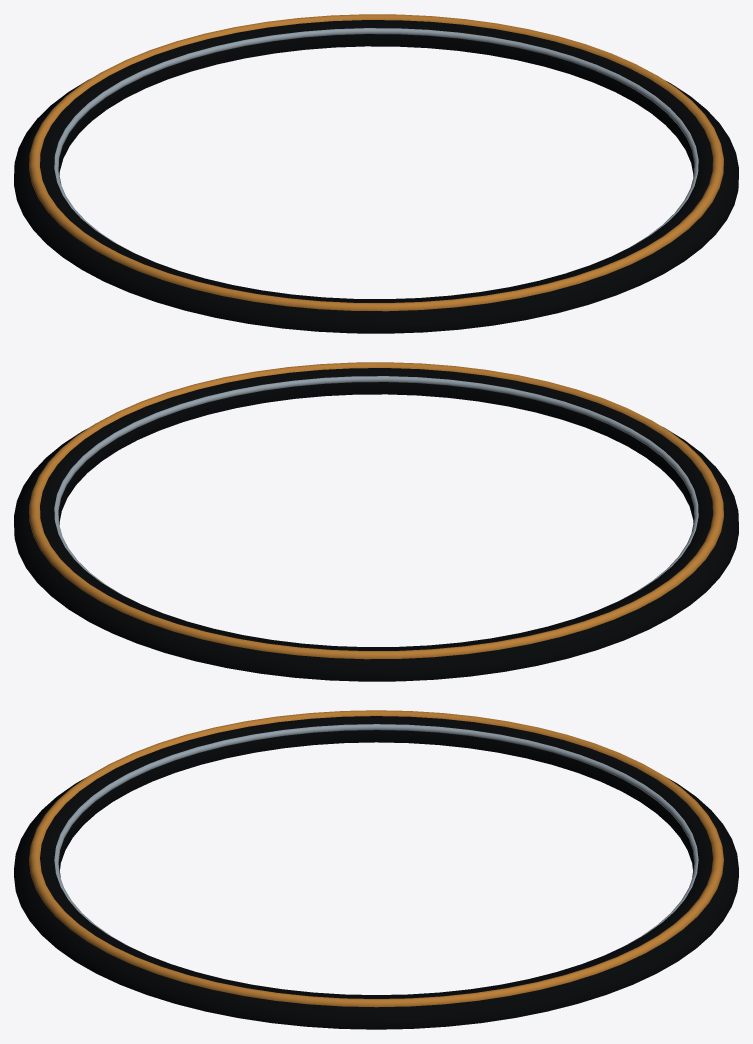
The model's file is insert-bezel.dae.
3 renders of one model, top to bottom at view 1: azimuth 30°, elevation 25°; view 2: azimuth 150°, elevation 25°; view 3: azimuth 270°, elevation 25°, orthographic.
Visible parts, largest first — view 1: Recessed socket, Hairline bezel, Inner lens retainer; view 2: Recessed socket, Hairline bezel, Inner lens retainer; view 3: Recessed socket, Hairline bezel, Inner lens retainer.
Boxes of the visible parts, x1,y1,x2,y2 form: Recessed socket: (14, 20, 738, 333); Hairline bezel: (29, 14, 723, 311); Inner lens retainer: (54, 28, 698, 260); Recessed socket: (14, 368, 738, 681); Hairline bezel: (29, 362, 723, 659); Inner lens retainer: (54, 376, 698, 608); Recessed socket: (14, 716, 738, 1029); Hairline bezel: (29, 710, 723, 1007); Inner lens retainer: (54, 724, 698, 953).
Size of the model in its own units: 2.16 by 0.0691 by 2.16.
